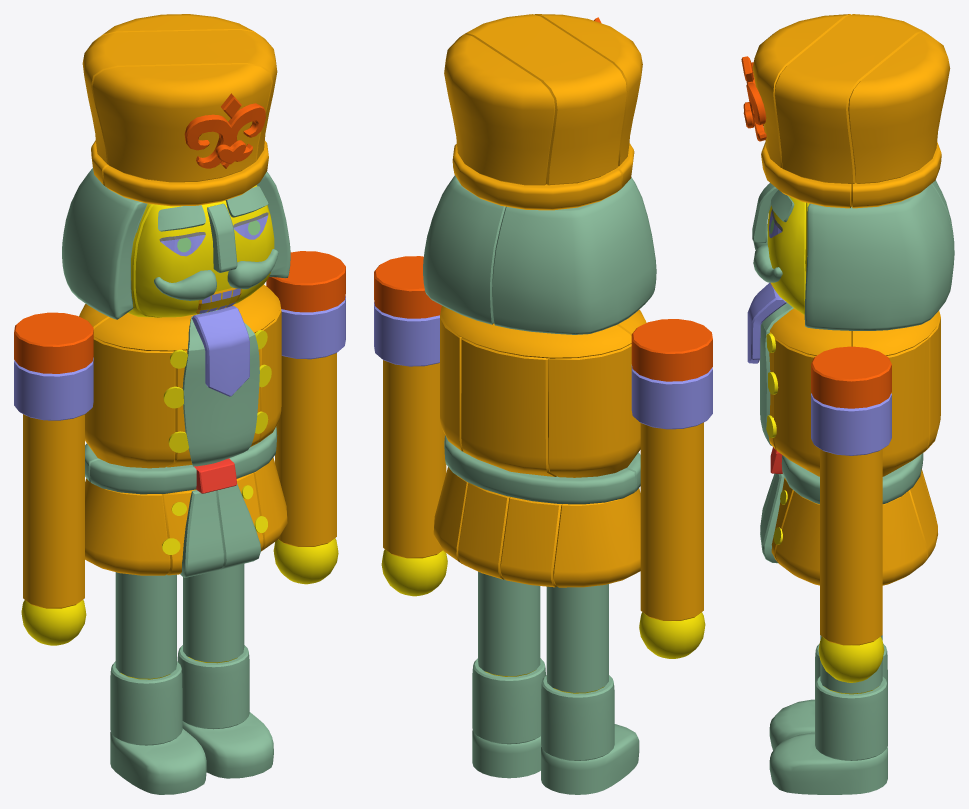
The model's file is level_193.fbx.
3 views of the same model, side by side, from view 1: azimuth 30°, elevation 25°; view 2: azimuth 150°, elevation 25°; view 3: azimuth 270°, elevation 25° (orthographic). The views are drawn at different scales.
Parts seen in each view (by area): view 1: Cube_L1_8, Cube_L1_3, Cube_L4_6, Cube_L4, Cube_L2_10, Cube_L1_9, Cube_L2_4, Cube_L1_7, Cube_L2_11, Cube_L3_5, Cube_L3, Cube_L2_3 (+21 smaller); view 2: Cube_L1_9, Cube_L1_7, Cube_L4_6, Cube_L1_1, Cube_L4, Cube_L2_10, Cube_L2_4, Cube_L1, Cube_L2_11, Cube_L3_5, Cube_L3, Cube_L2_6 (+17 smaller); view 3: Cube_L1, Cube_L1_7, Cube_L4, Cube_L1_1, Cube_L2_1, Cube_L2, Cube_L3_1, Cube_L3_2, Cube_L1_3, Cube_L4_2, Cube_L1_8, Cube_L4_3 (+14 smaller).
Boxes of the visible parts, x1,y1,x2,y2 form: Cube_L1_8: [92, 64, 271, 182]; Cube_L1_3: [135, 185, 278, 317]; Cube_L4_6: [23, 414, 84, 608]; Cube_L4: [275, 353, 336, 546]; Cube_L2_10: [79, 315, 177, 468]; Cube_L1_9: [62, 168, 159, 319]; Cube_L2_4: [167, 330, 262, 467]; Cube_L1_7: [82, 30, 277, 164]; Cube_L2_11: [85, 478, 170, 575]; Cube_L3_5: [115, 572, 176, 679]; Cube_L3: [183, 564, 244, 663]; Cube_L2_3: [90, 426, 277, 494]; Cube_L1_9: [492, 177, 656, 334]; Cube_L1_7: [465, 14, 627, 185]; Cube_L4_6: [640, 422, 703, 620]; Cube_L1_1: [444, 34, 555, 185]; Cube_L4: [383, 360, 446, 558]; Cube_L2_10: [548, 322, 646, 477]; Cube_L2_4: [461, 338, 556, 476]; Cube_L1: [423, 175, 505, 324]; Cube_L2_11: [553, 488, 640, 587]; Cube_L3_5: [546, 584, 608, 693]; Cube_L3: [478, 571, 540, 676]; Cube_L2_6: [444, 435, 635, 504]; Cube_L1: [804, 184, 954, 330]; Cube_L1_7: [774, 14, 923, 183]; Cube_L4: [820, 449, 882, 645]; Cube_L1_1: [848, 31, 950, 183]; Cube_L2_1: [770, 335, 928, 476]; Cube_L2: [775, 490, 926, 585]; Cube_L3_1: [769, 732, 887, 794]; Cube_L3_2: [815, 676, 887, 760]; Cube_L1_3: [753, 190, 805, 314]; Cube_L4_2: [811, 346, 891, 408]; Cube_L1_8: [752, 14, 850, 167]; Cube_L4_3: [811, 393, 891, 455].
Size of the model in its own units: 10.6 by 22.27 by 6.03.
